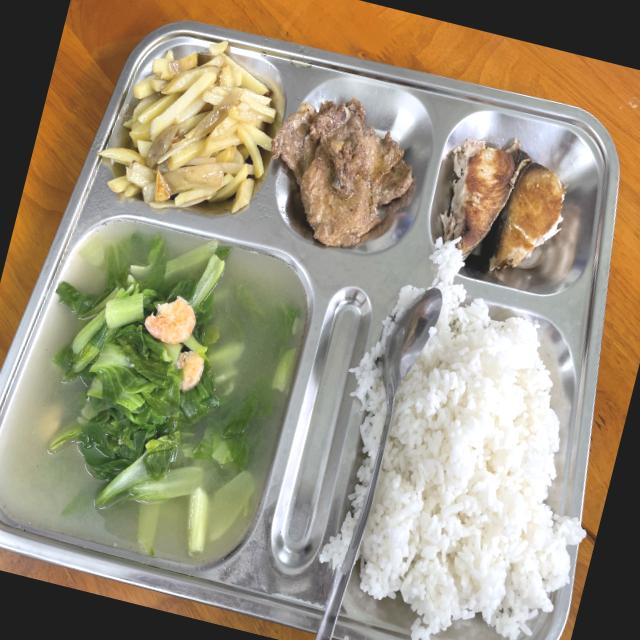ca kho: (443, 139, 565, 269)
canh cai: (0, 222, 308, 567)
com: (360, 237, 582, 640), (350, 285, 421, 482)
suon mieng: (274, 98, 413, 247)
